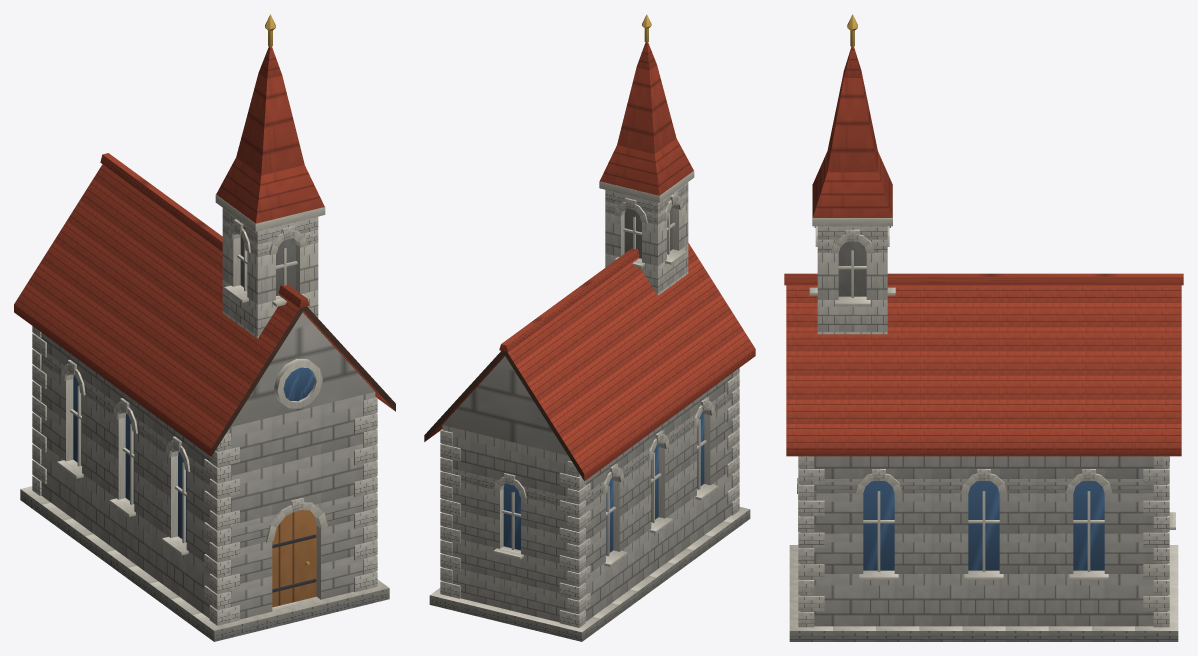
File: civ_chapel_01.glb
The picture shows the model from 3 angles, left to right: view 1: azimuth 30°, elevation 25°; view 2: azimuth 150°, elevation 25°; view 3: azimuth 270°, elevation 25°; orthographic projection. The views are drawn at different scales.
Parts seen in each view (by area): view 1: civ_chapel_01; view 2: civ_chapel_01; view 3: civ_chapel_01.
Boxes of the visible parts, x1,y1,x2,y2 form: civ_chapel_01: (14,14,395,641); civ_chapel_01: (424,14,755,641); civ_chapel_01: (784,14,1183,641).
Bounding box in the file's own units: 6.1 × 18.44 × 11.4.
1 material, 1 textured.
